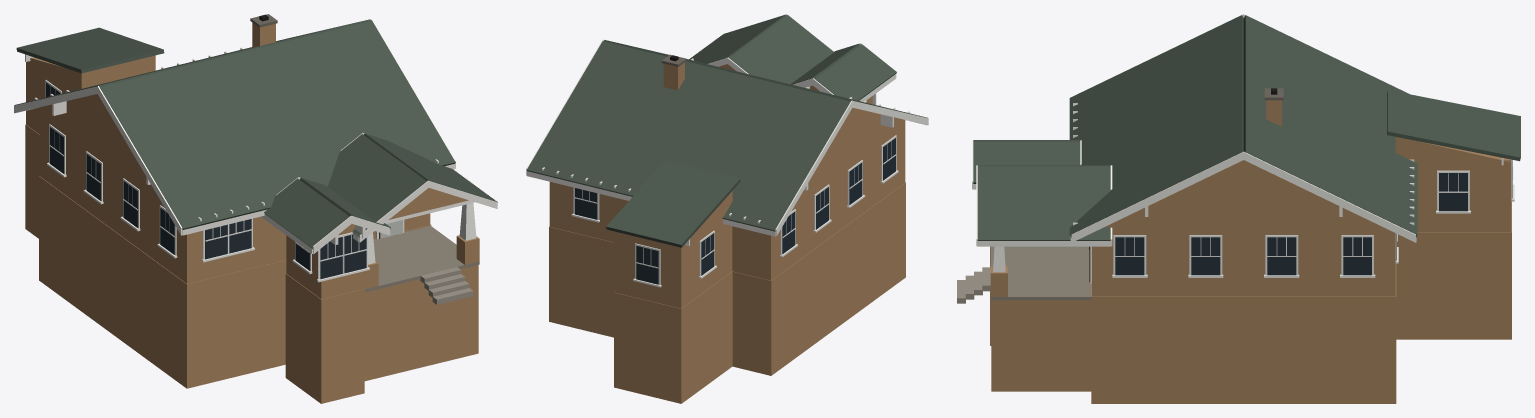
File: brick-bungalow-0001.glb
3 views of the same model, side by side, from view 1: azimuth 30°, elevation 25°; view 2: azimuth 150°, elevation 25°; view 3: azimuth 270°, elevation 25° (orthographic). The views are drawn at different scales.
Visible parts, largest first — view 1: kit-brick-bungalow-0001; view 2: kit-brick-bungalow-0001; view 3: kit-brick-bungalow-0001.
Part boxes in pixels (x1,y1,x2,y2): kit-brick-bungalow-0001: [14, 14, 497, 403]; kit-brick-bungalow-0001: [526, 14, 928, 403]; kit-brick-bungalow-0001: [957, 14, 1520, 403].
Bounding box in the file's own units: 11.3 × 10.48 × 19.49.
